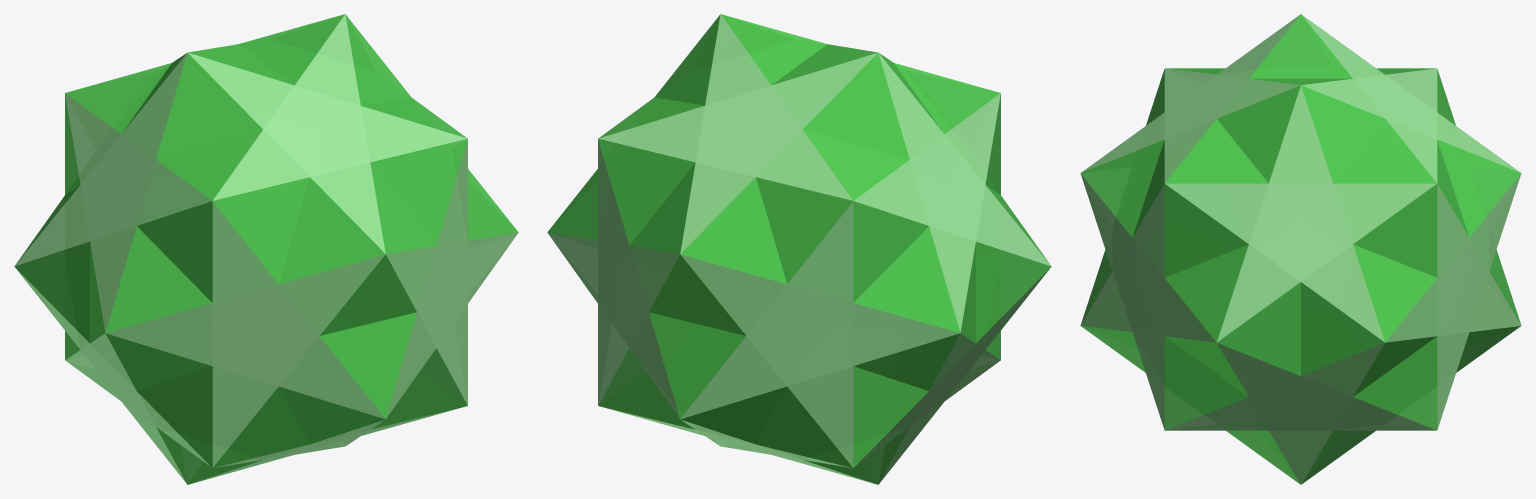
File: SmallDitrigonalIcosidodecahedron.obj
The picture shows the model from 3 angles, left to right: view 1: azimuth 30°, elevation 25°; view 2: azimuth 150°, elevation 25°; view 3: azimuth 270°, elevation 25°; orthographic projection. The views are drawn at different scales.
Size of the model in its own units: 1.62 by 1.62 by 1.62.
